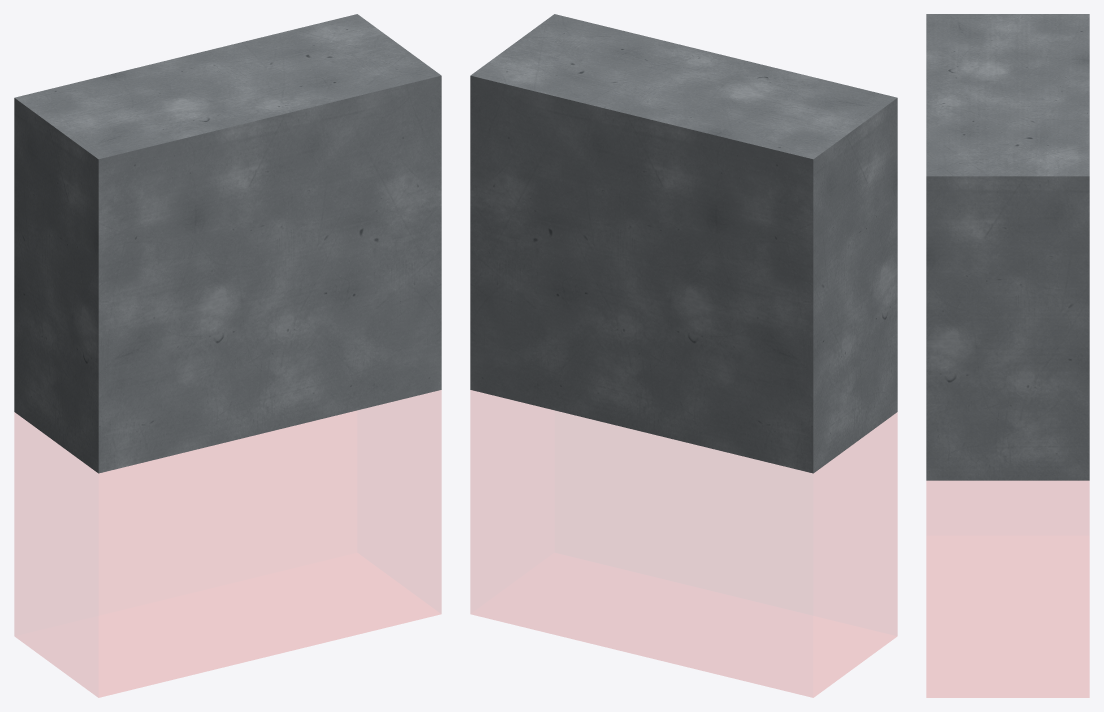
The model's file is concrete-slab-final.glb.
The picture shows the model from 3 angles, left to right: view 1: azimuth 30°, elevation 25°; view 2: azimuth 150°, elevation 25°; view 3: azimuth 270°, elevation 25°; orthographic projection. The views are drawn at different scales.
Parts seen in each view (by area): view 1: concrete-slab, foundation-footprint; view 2: concrete-slab, foundation-footprint; view 3: concrete-slab, foundation-footprint.
Boxes of the visible parts, x1=… form: concrete-slab: x1=14, y1=14, x2=441, y2=473; foundation-footprint: x1=15, y1=390, x2=440, y2=697; concrete-slab: x1=470, y1=14, x2=897, y2=473; foundation-footprint: x1=471, y1=390, x2=896, y2=697; concrete-slab: x1=926, y1=14, x2=1089, y2=480; foundation-footprint: x1=927, y1=481, x2=1088, y2=697.
Bounding box in the file's own units: 0.8 × 1.2 × 0.34.
Materials: 2 (1 with a texture image).
